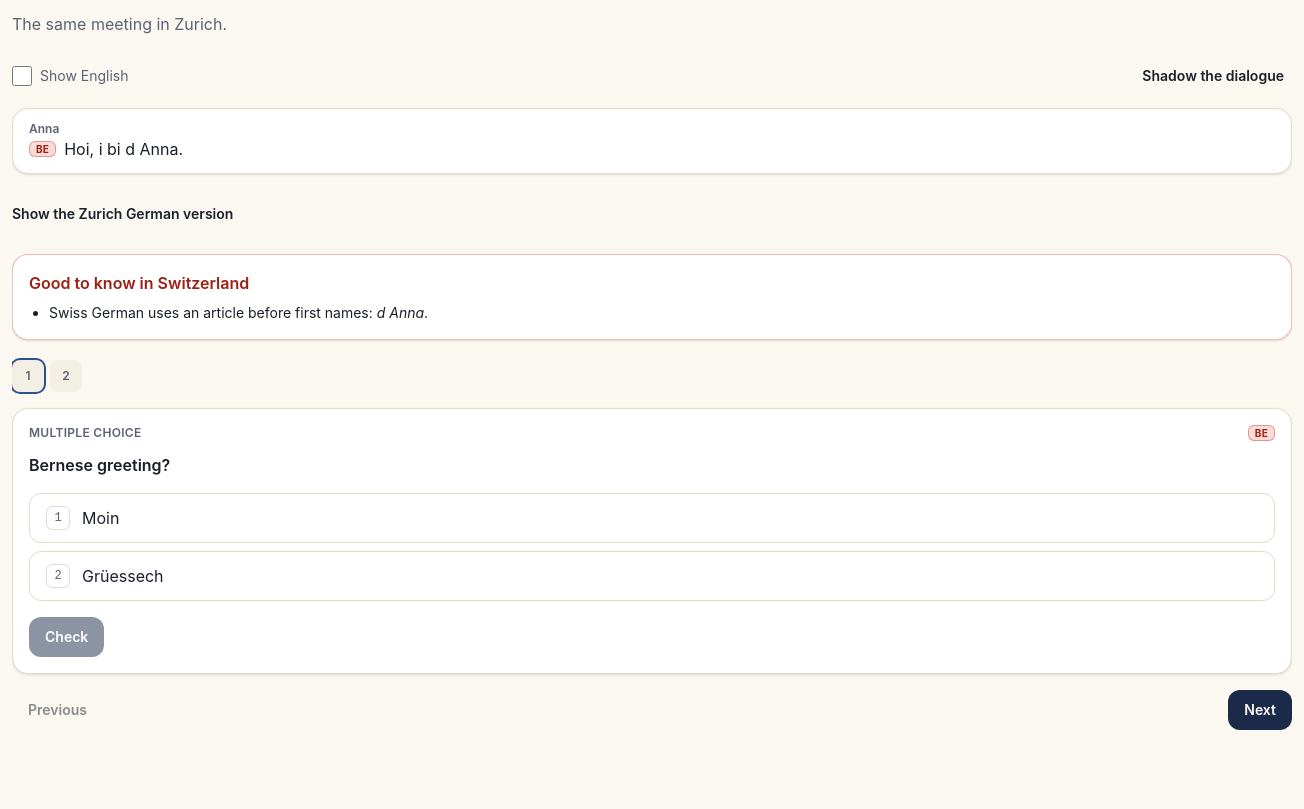
Test: Swiss lane dialect › Bern: shows Bernese lines and exercises first when the unit has them
The width and height of the screenshot is (1304, 809).
Expected: the text "Hoi, i bi d Anna." is shown, [64,139,183,159]
Expected: the text "Hoi, ich bi d Anna." is not shown
Click the button "Show the Zurich German version".
click(123, 214)  # box [12,194,233,234]
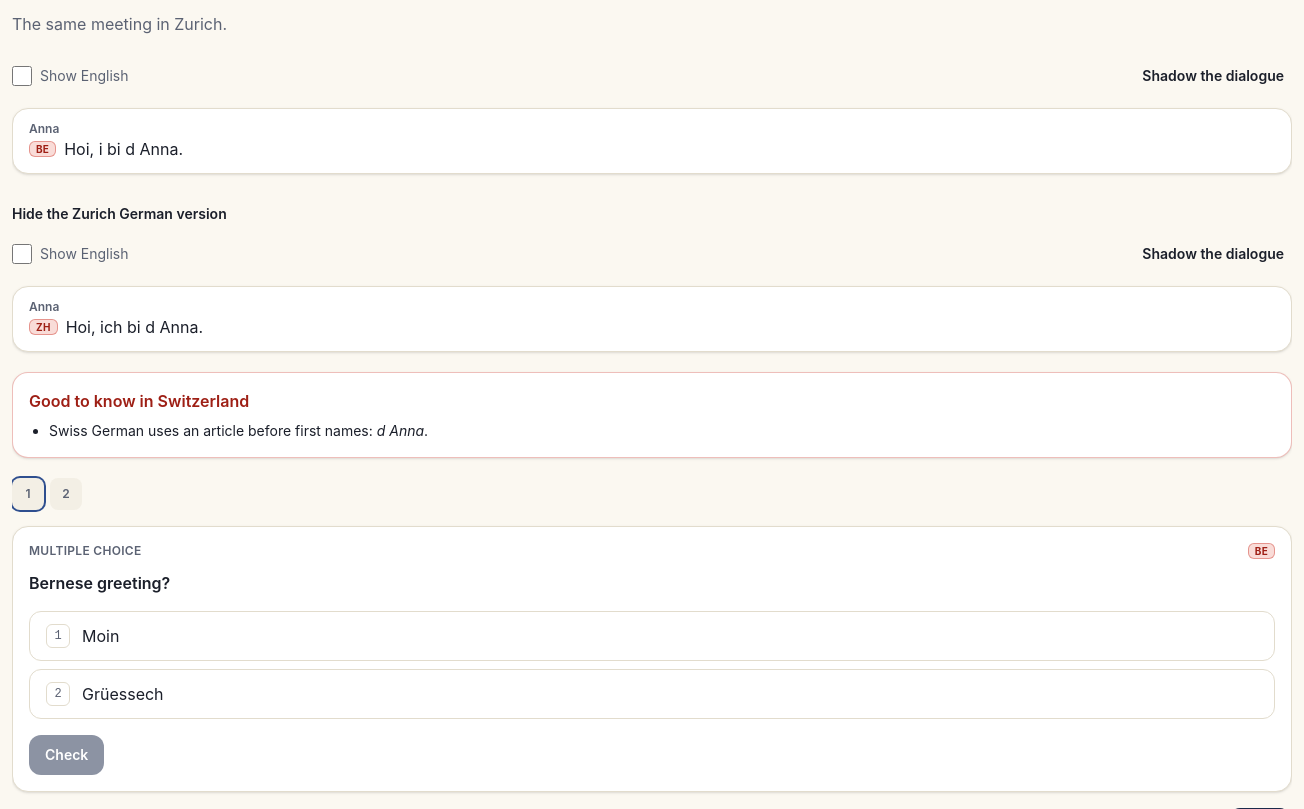
Expected: the text "Hoi, ich bi d Anna." is shown, [66,317,203,337]
